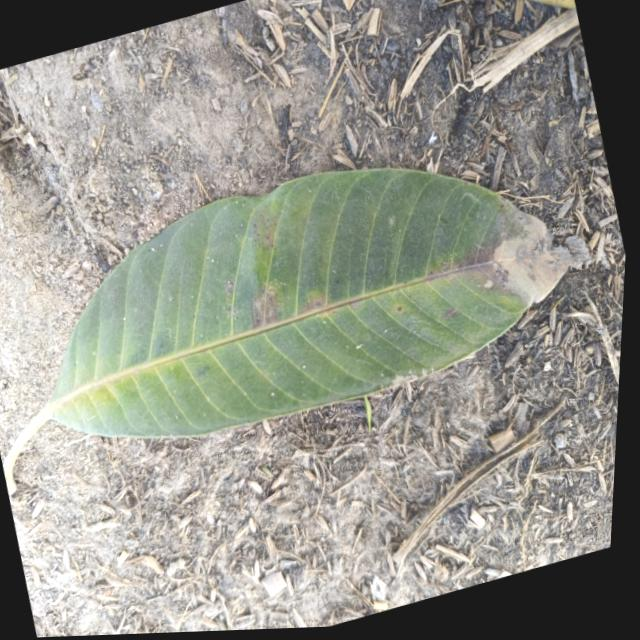Anthracnose: (248, 284, 289, 326), (396, 305, 403, 312)
Bacterial Cancer: (471, 201, 581, 311), (482, 276, 496, 291)
